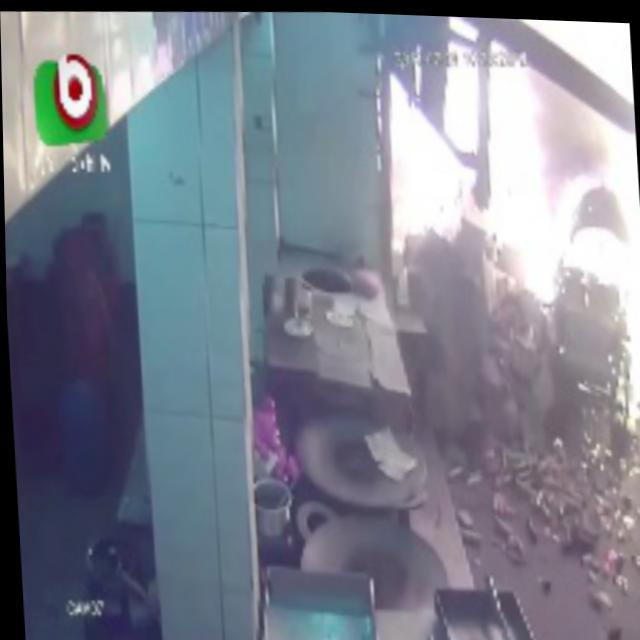fire: (383, 11, 639, 242)
